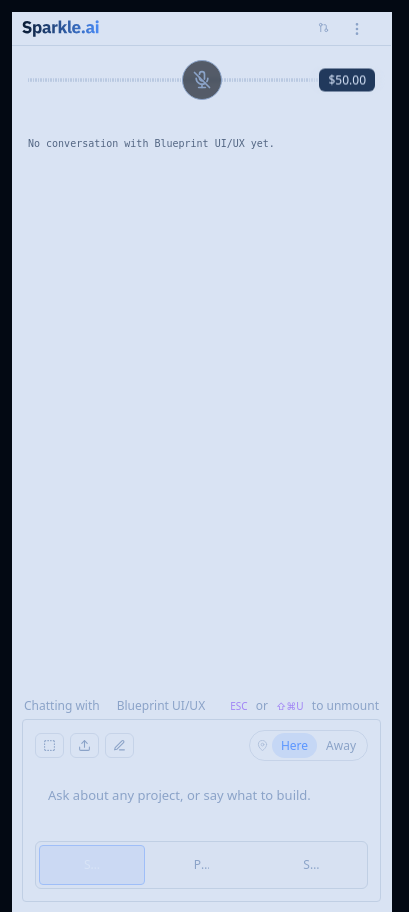
Scenario: ConciergeHost — @Sparkle is the way out of a mount › tells a MOUNTED reader when the AI half is genuinely off, not just the hidden thread
Step 1. Type "@Sparkle what is the status of the build?" into the text box named "Message" → {"x": 202, "y": 804}, box [35,775,368,833]
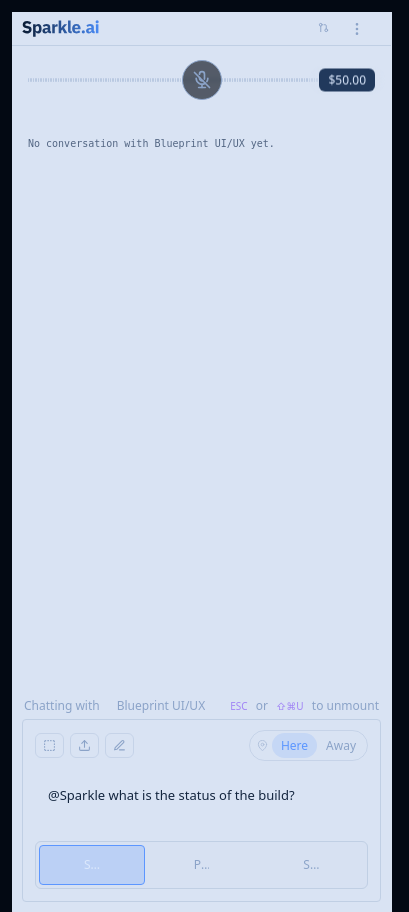
Step 2. Click the button "Send" → {"x": 92, "y": 865}, box [39,845,145,885]
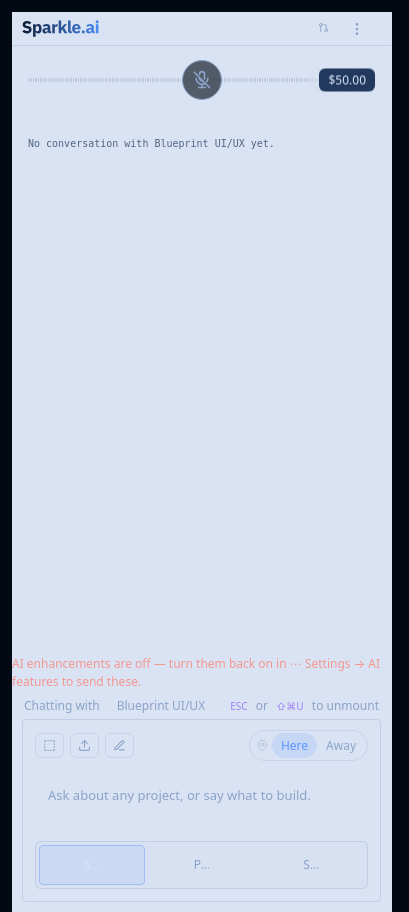
Expected: the message with test id "mounted-notice" shows "AI enhancements are off", [12,655,380,690]
